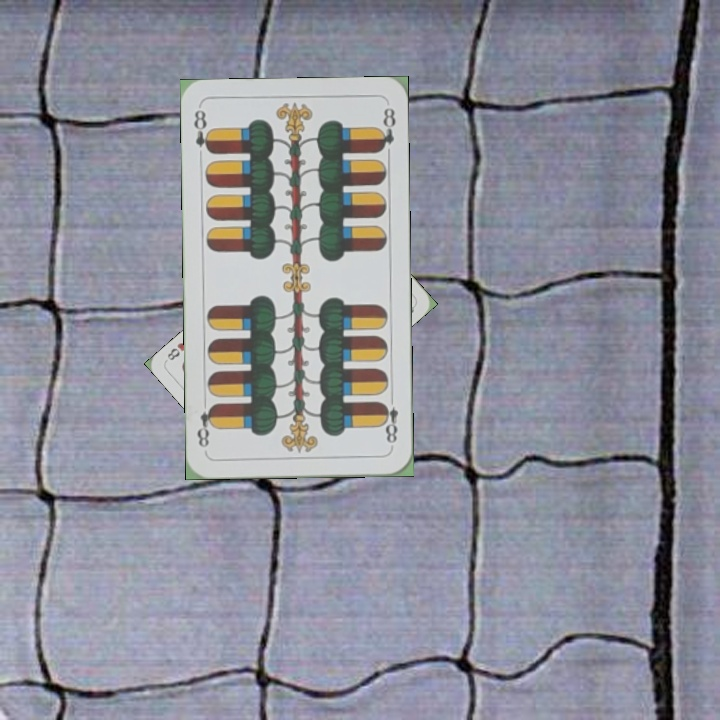E8: (377, 391, 401, 450), (189, 106, 215, 156)
